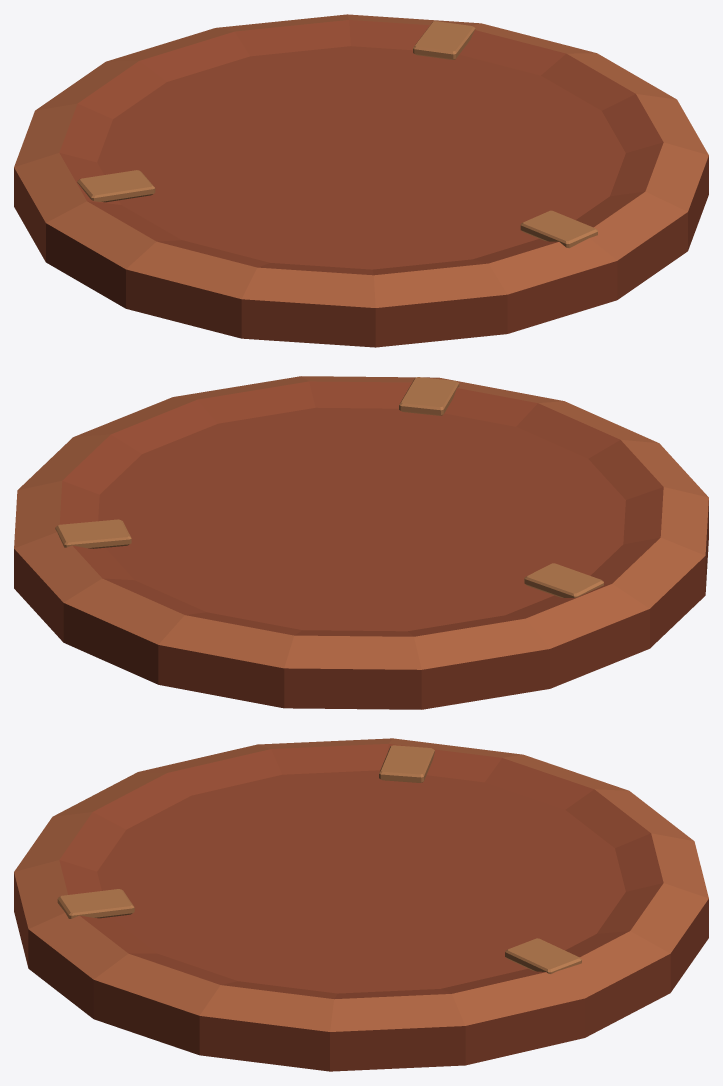
Rendered from duenenmeer_11.glb.
3 renders of one model, top to bottom at view 1: azimuth 30°, elevation 25°; view 2: azimuth 150°, elevation 25°; view 3: azimuth 270°, elevation 25°, orthographic.
Visible parts, largest first — view 1: duenenmeer_11; view 2: duenenmeer_11; view 3: duenenmeer_11.
Boxes of the visible parts, left/top/right/bottom form: duenenmeer_11: left=14, top=14, right=708, bottom=347; duenenmeer_11: left=14, top=376, right=708, bottom=709; duenenmeer_11: left=14, top=738, right=708, bottom=1071.
Bounding box in the file's own units: 2 × 0.2155 × 2.
